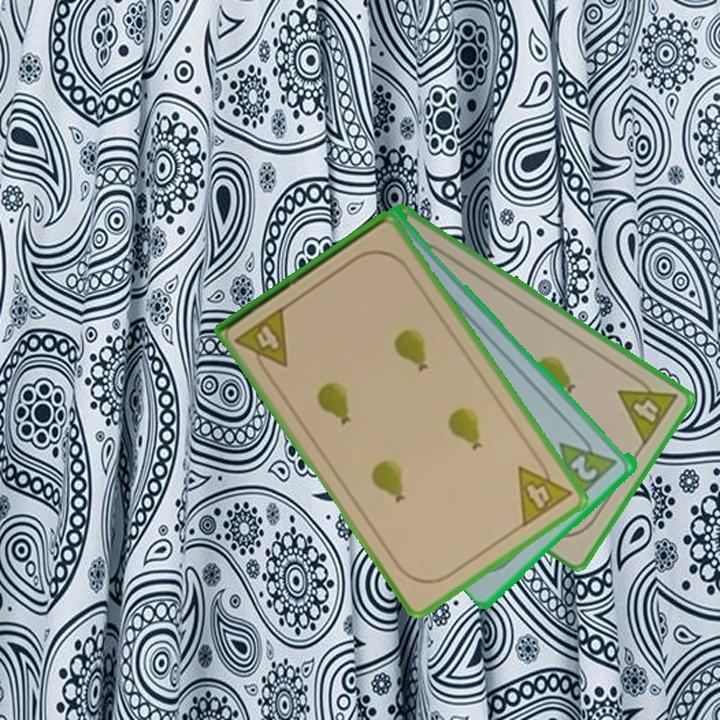2p: (567, 451, 601, 484)
4p: (614, 369, 681, 448), (514, 451, 575, 530), (232, 303, 292, 380)
